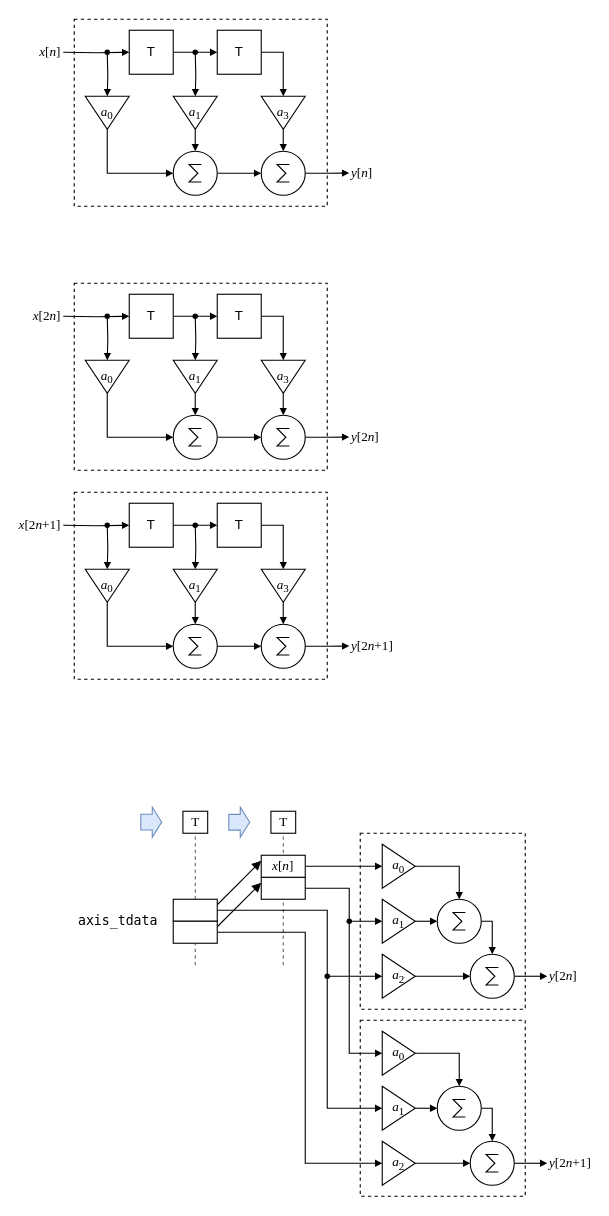
This 609x1216 diagram has some shape labels left out. Each missing label, with the box of its shape:
x [ n +1]: (260, 876, 305, 899)
x [ n +2]: (172, 898, 217, 921)
x [ n +3]: (172, 920, 217, 943)
